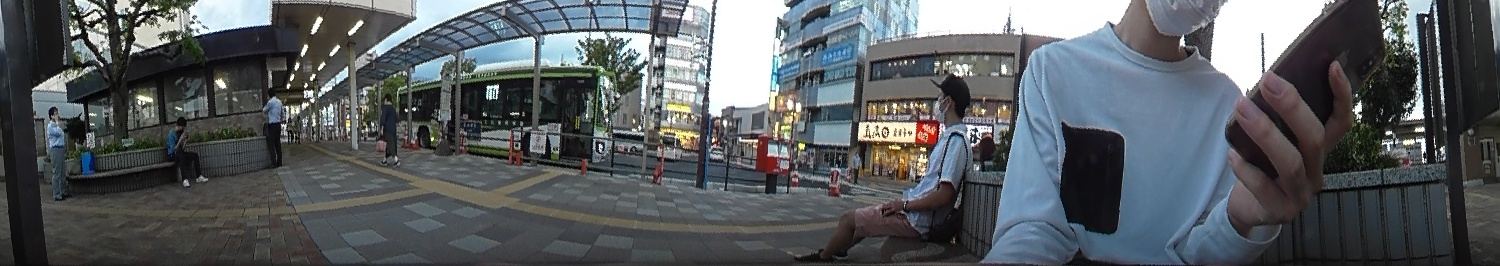difficult_person: (850, 148, 863, 184), (293, 114, 304, 144), (306, 112, 315, 141)
person: (806, 76, 974, 266), (163, 114, 208, 187), (45, 105, 70, 201), (258, 86, 286, 167), (376, 90, 404, 166)
